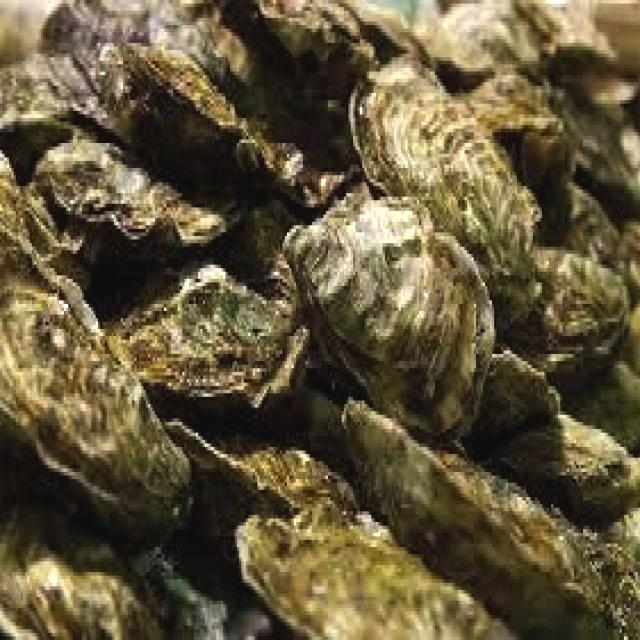Oyster-Closed: (341, 400, 581, 631), (286, 185, 494, 437), (0, 268, 190, 538), (350, 58, 539, 274), (146, 386, 376, 558), (238, 515, 514, 640), (452, 240, 640, 410), (112, 260, 309, 408), (0, 475, 156, 640), (35, 129, 225, 246), (471, 411, 640, 531), (257, 0, 375, 103), (130, 45, 248, 137), (544, 82, 640, 188), (469, 349, 559, 456), (237, 194, 321, 308), (510, 0, 640, 64), (539, 172, 625, 260), (460, 70, 546, 142), (615, 218, 640, 290)
Oyster-Open: (340, 0, 432, 70)
